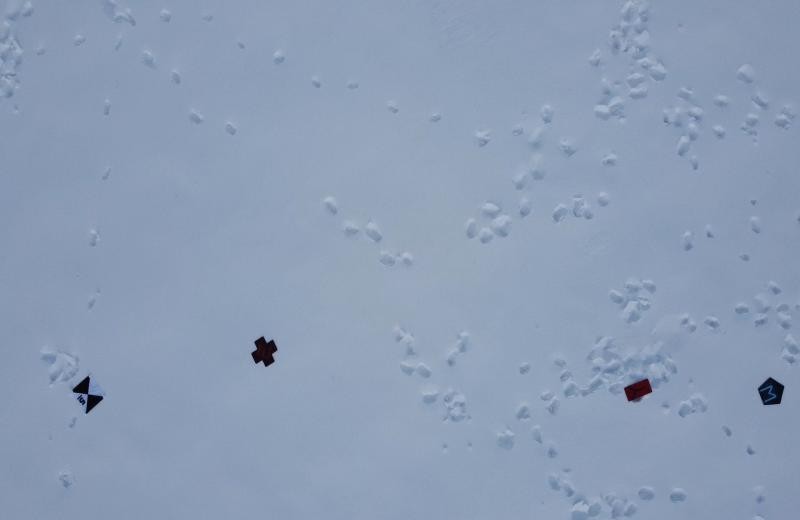Cross: (249, 333, 279, 370)
Pentagon: (756, 374, 786, 408)
Rectangle: (624, 374, 656, 410)
